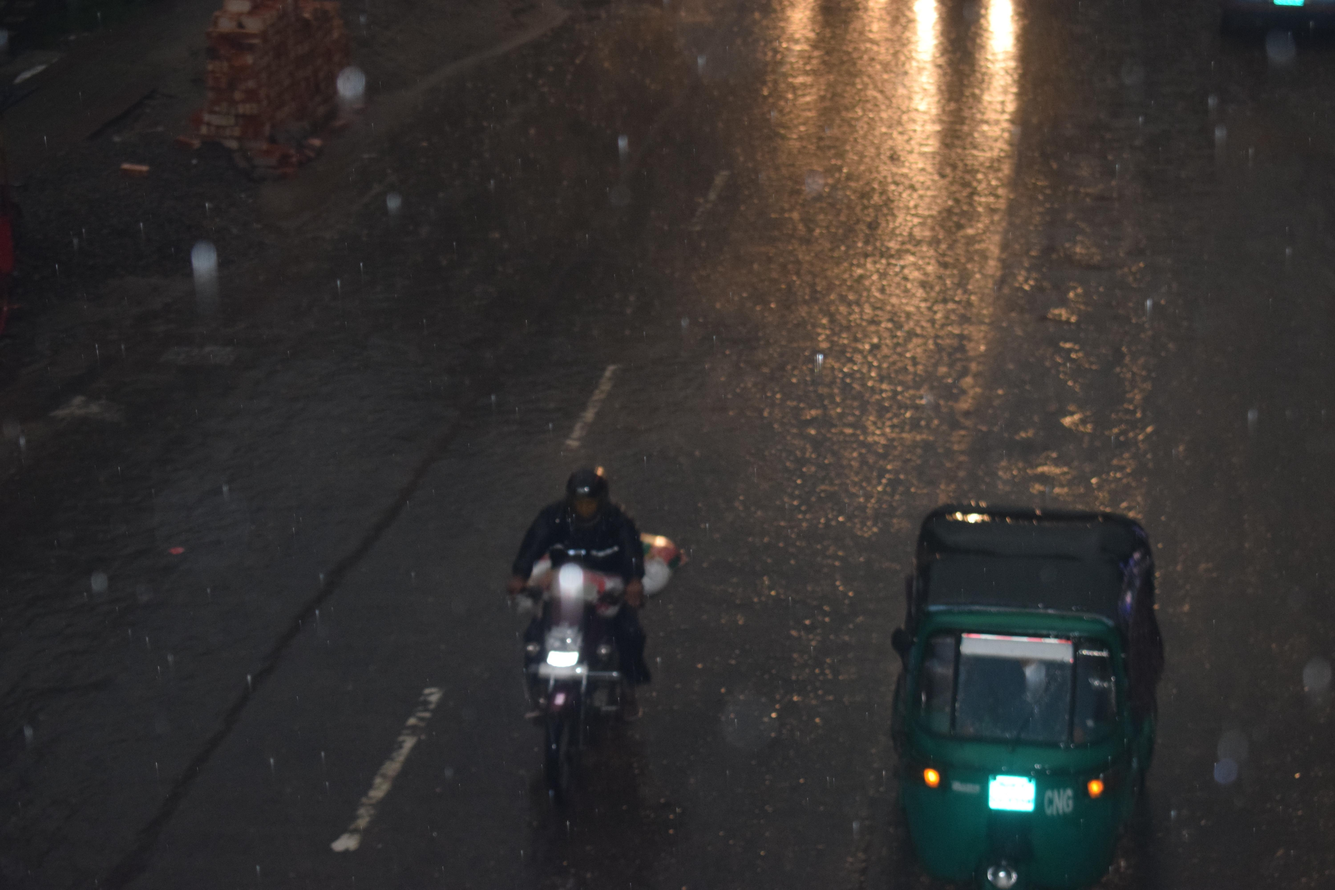Bike: (444, 433, 724, 850)
